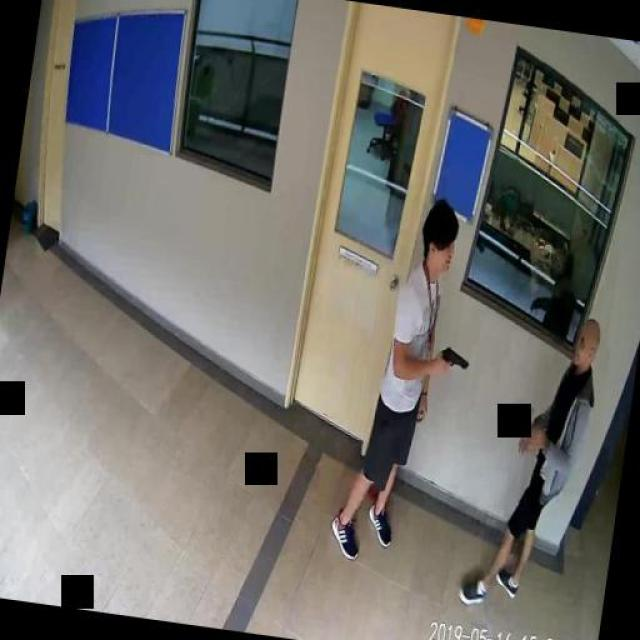gun: (436, 345, 469, 375)
